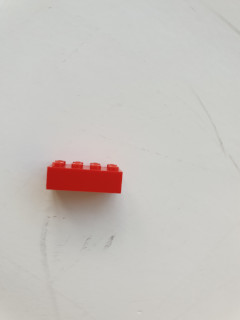2x4 red: (44, 160, 124, 195)
